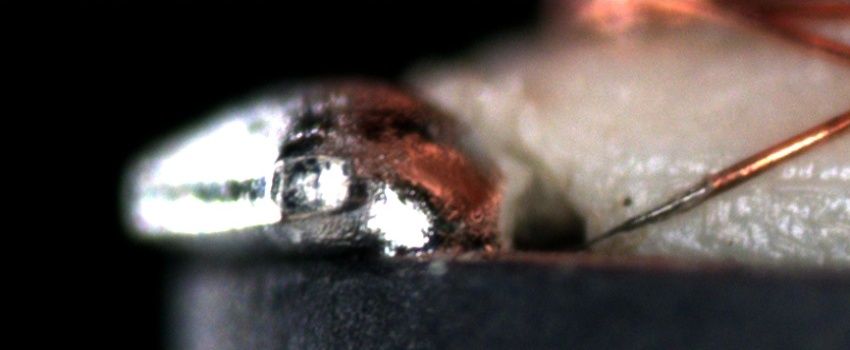DL: (629, 149, 850, 213)
TS: (563, 185, 709, 254)
TTCW: (570, 152, 765, 250)
